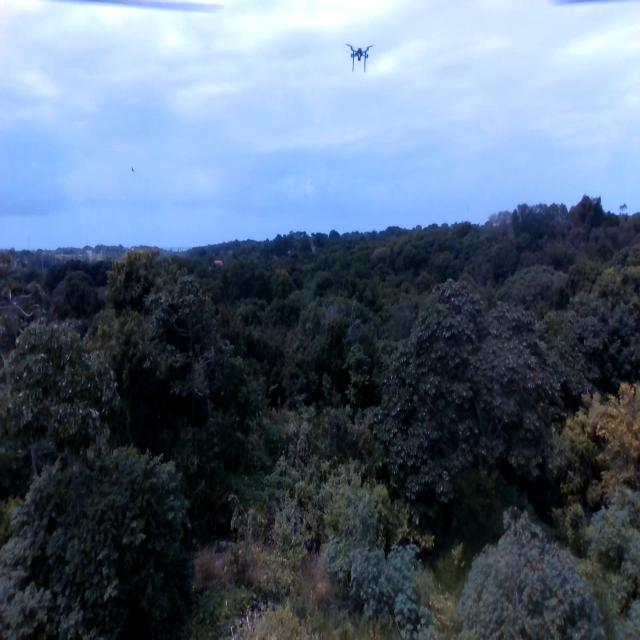-uav-: (341, 27, 383, 87)
